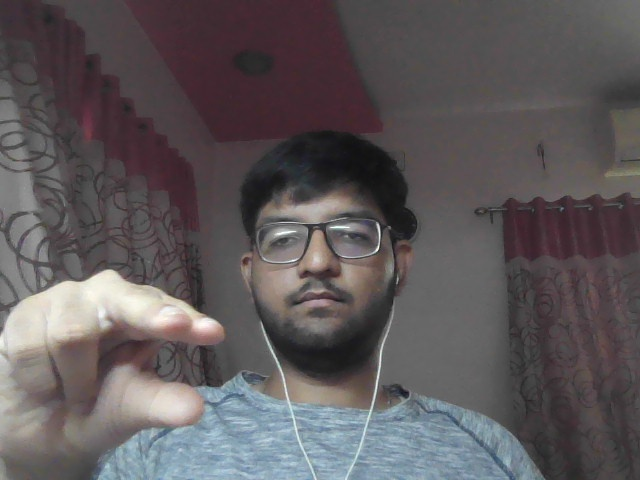ના: (1, 254, 231, 475)
